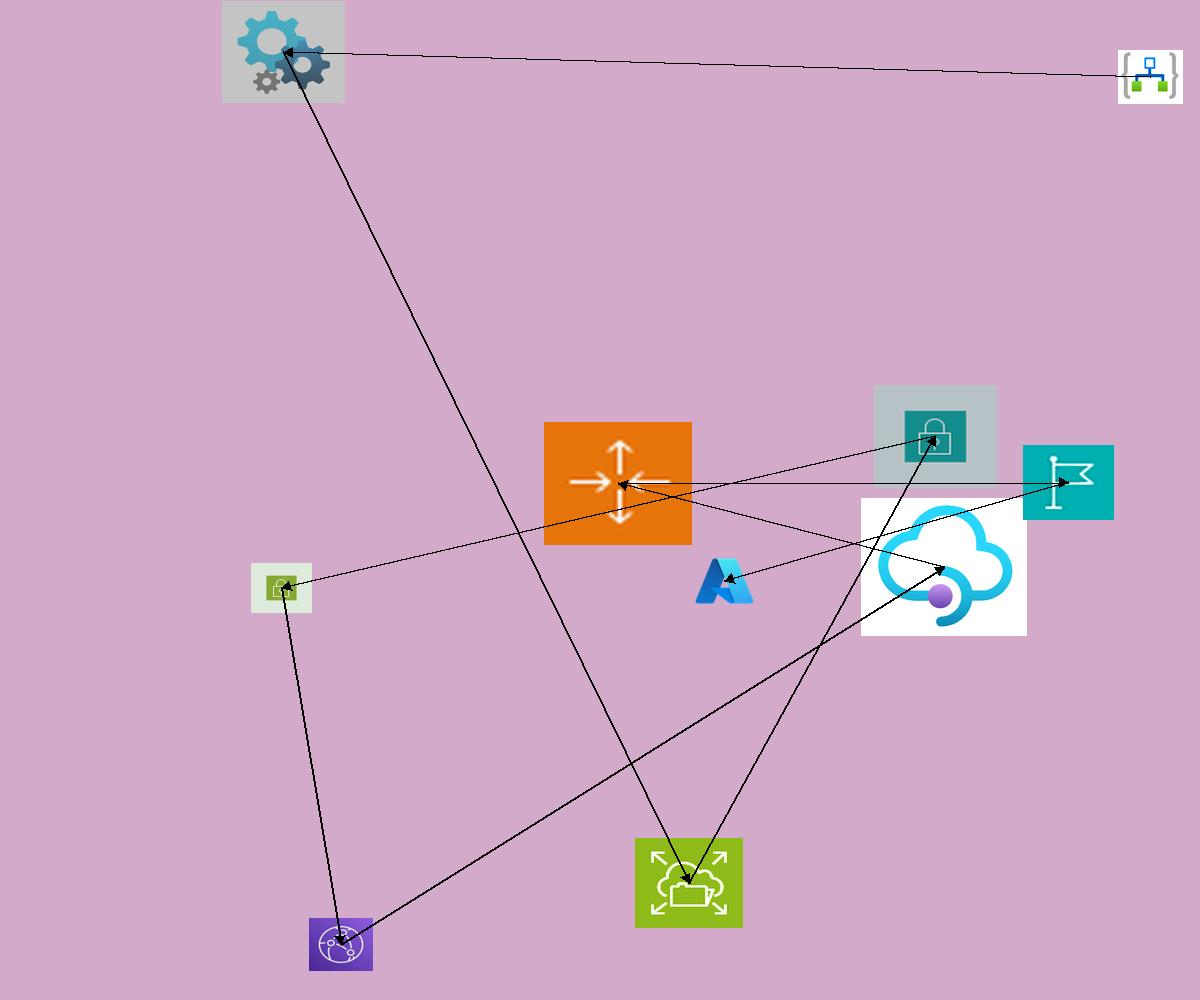AWS-CloudFront: (309, 918, 373, 971)
AWS-EFS: (635, 838, 743, 928)
AWS-Private-subnet: (874, 385, 997, 488)
AWS-Public-subnet: (251, 563, 312, 613)
AWS-Region: (1023, 445, 1114, 520)
AWS-Scaling-group: (544, 422, 692, 545)
Azure_api: (222, 1, 345, 103)
Azure_api_gateway: (861, 498, 1027, 636)
Azure_integration-204-Logic-Apps: (1118, 50, 1183, 104)
Azure_services: (693, 555, 756, 607)
